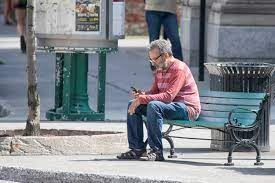person: (116, 39, 199, 162)
